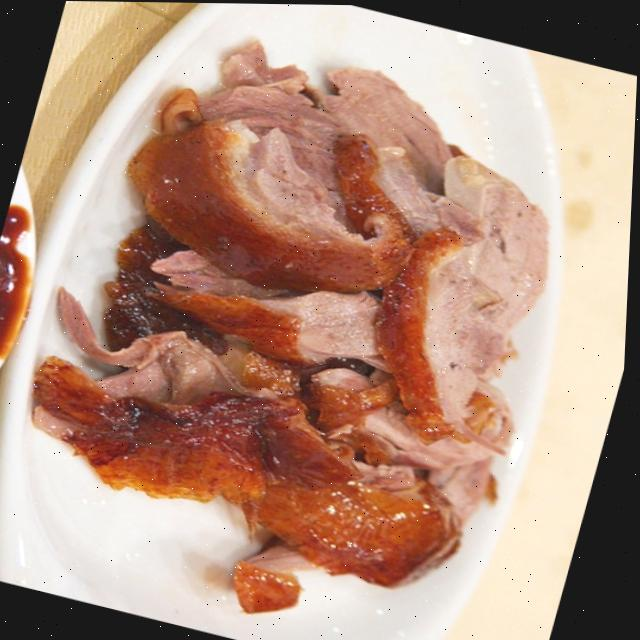烧串烤肉: (0, 4, 611, 640)
